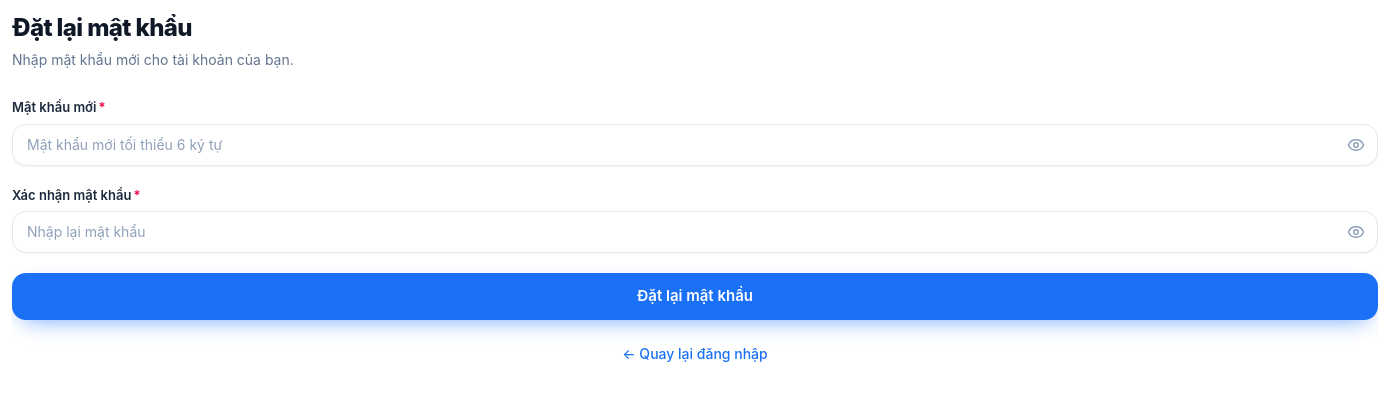
Test: ResetPassword › token sai/hết hạn → hiện lỗi + link yêu cầu lại link mới
This screenshot has width=1390, height=418.
Type "NewPass123" into the password field with placeholder "Mật khẩu mới tối thiểu 6 ký tự".
click(695, 144); type("NewPass123")  # box [12, 124, 1378, 166]
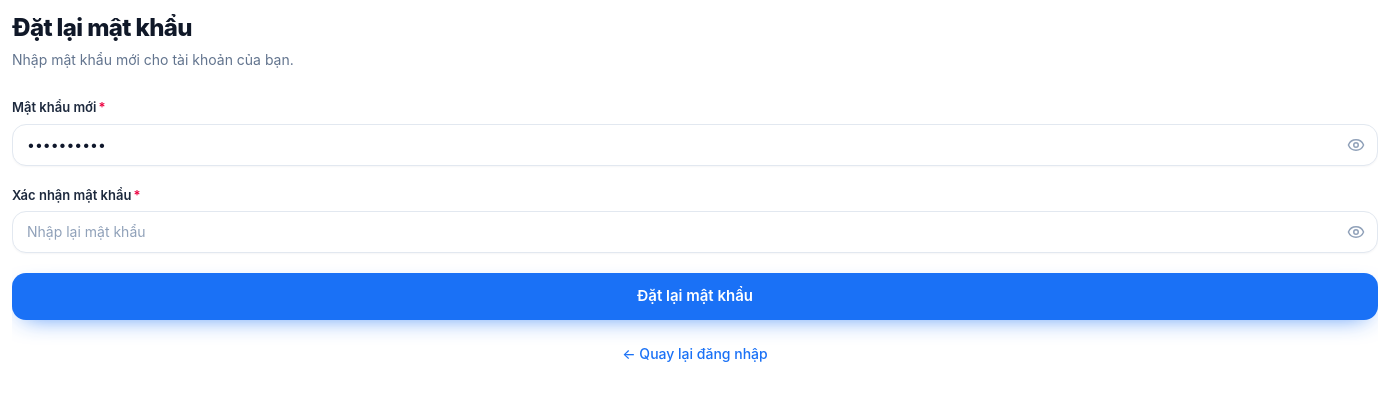
Type "NewPass123" into the password field with placeholder "Nhập lại mật khẩu".
click(695, 232); type("NewPass123")  # box [12, 211, 1378, 253]
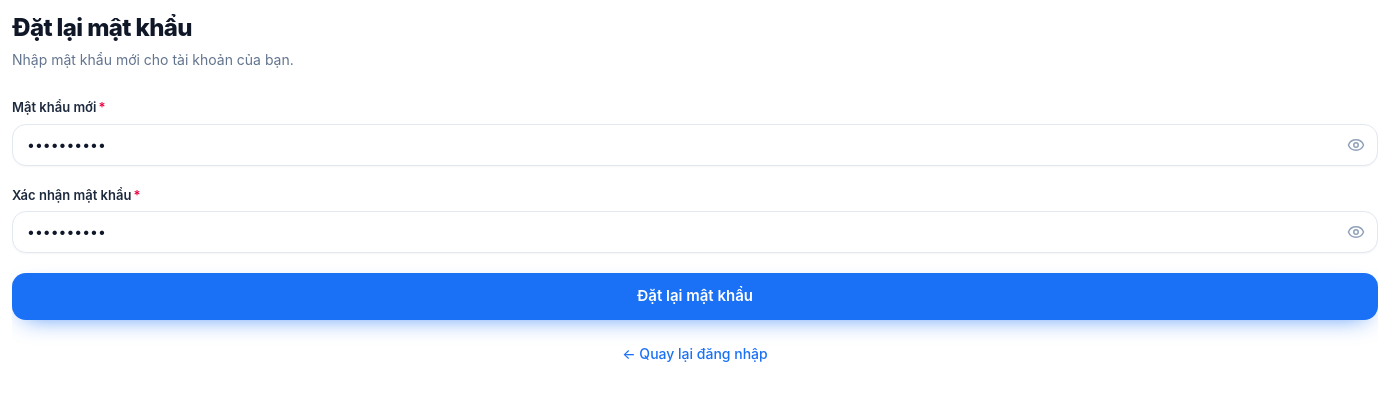
Click the button "Đặt lại mật khẩu".
click(695, 296)  # box [12, 273, 1378, 320]
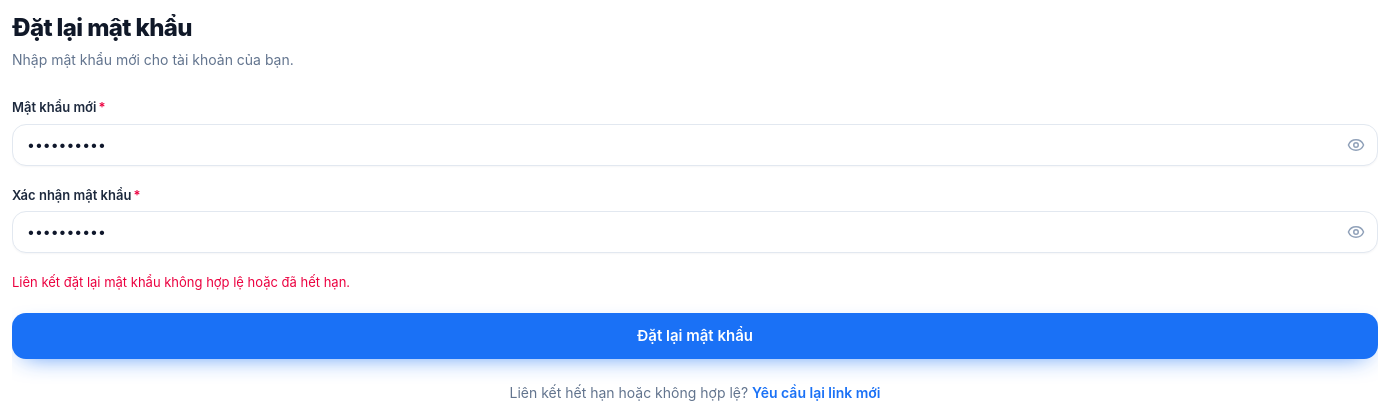
Check: the text "Liên kết đặt lại mật khẩu không hợp lệ hoặc đã hết hạn." is shown, box [12, 274, 350, 290]
